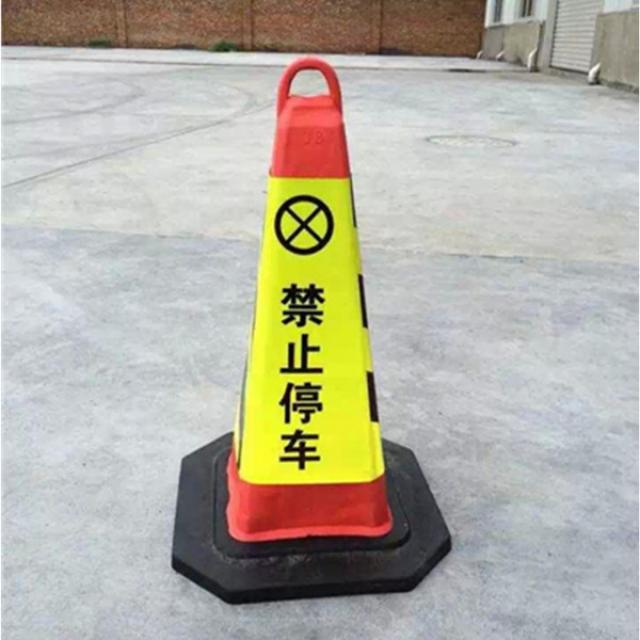reflective_cone: (163, 57, 454, 592)
